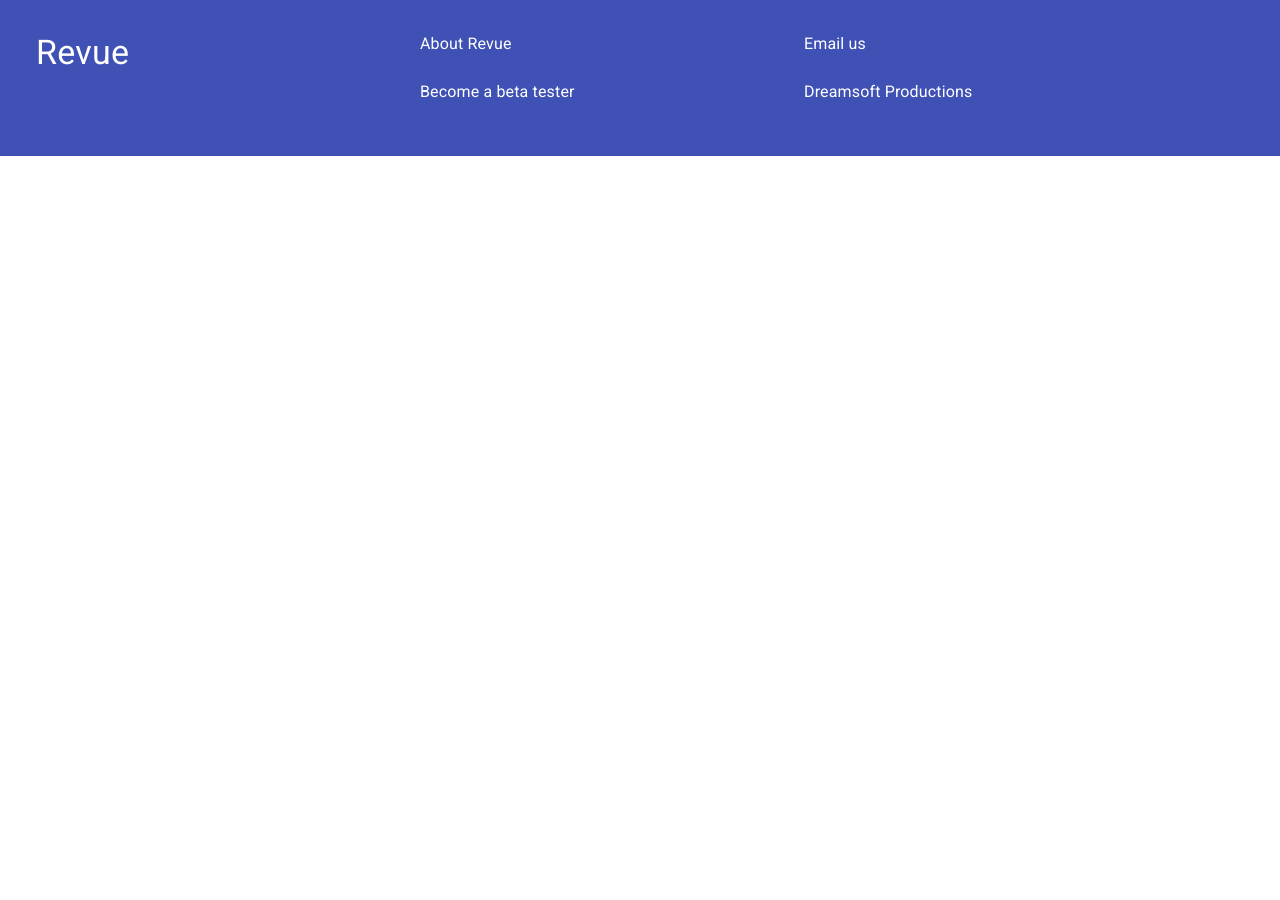
Test: Home footer tests › About link navigates to about page
Click the text "About Revue": x=466, y=44 [420,34,512,53]
(page scrolled)
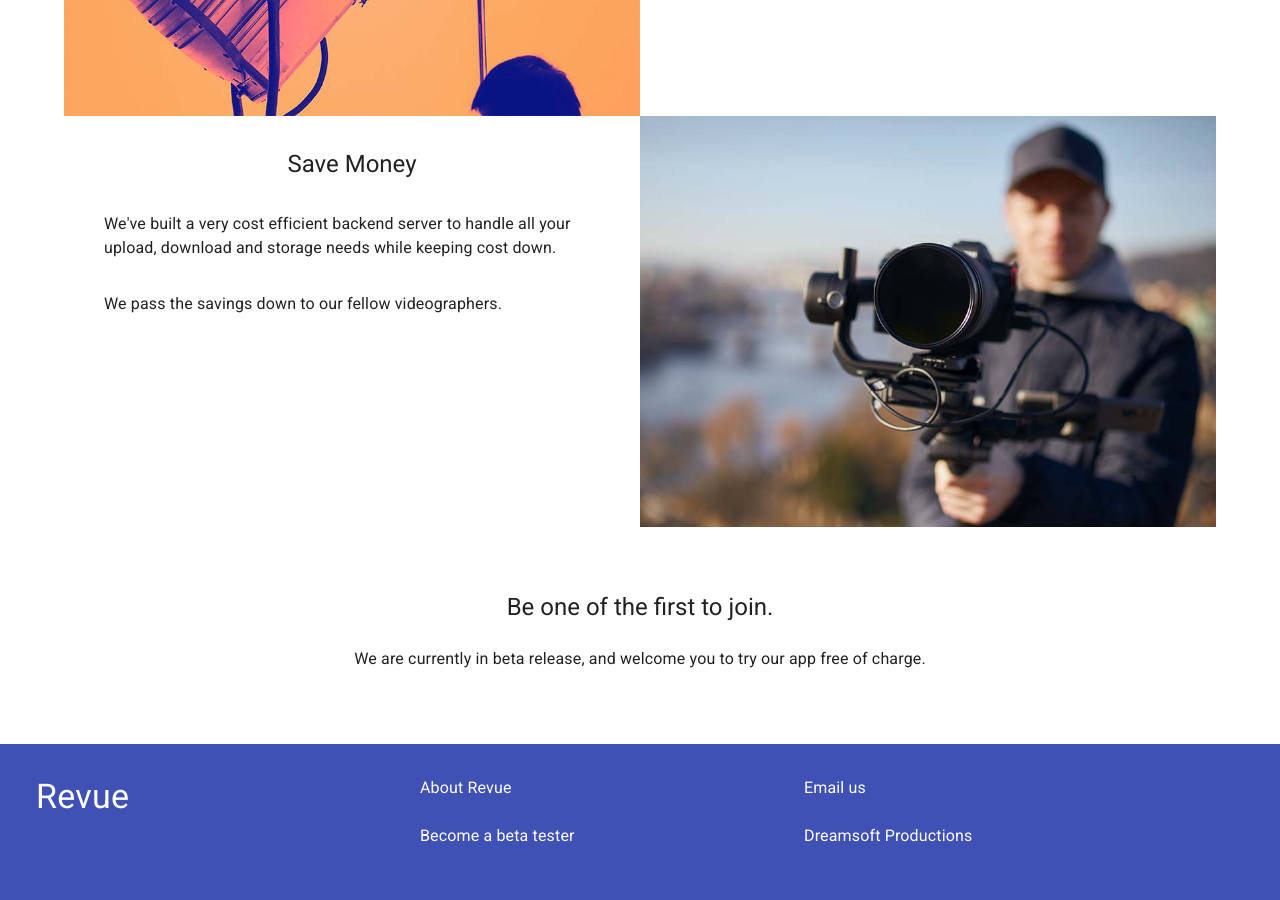
expect the heading "Be one of the first to join." is shown: met, box [507,591,773,623]
